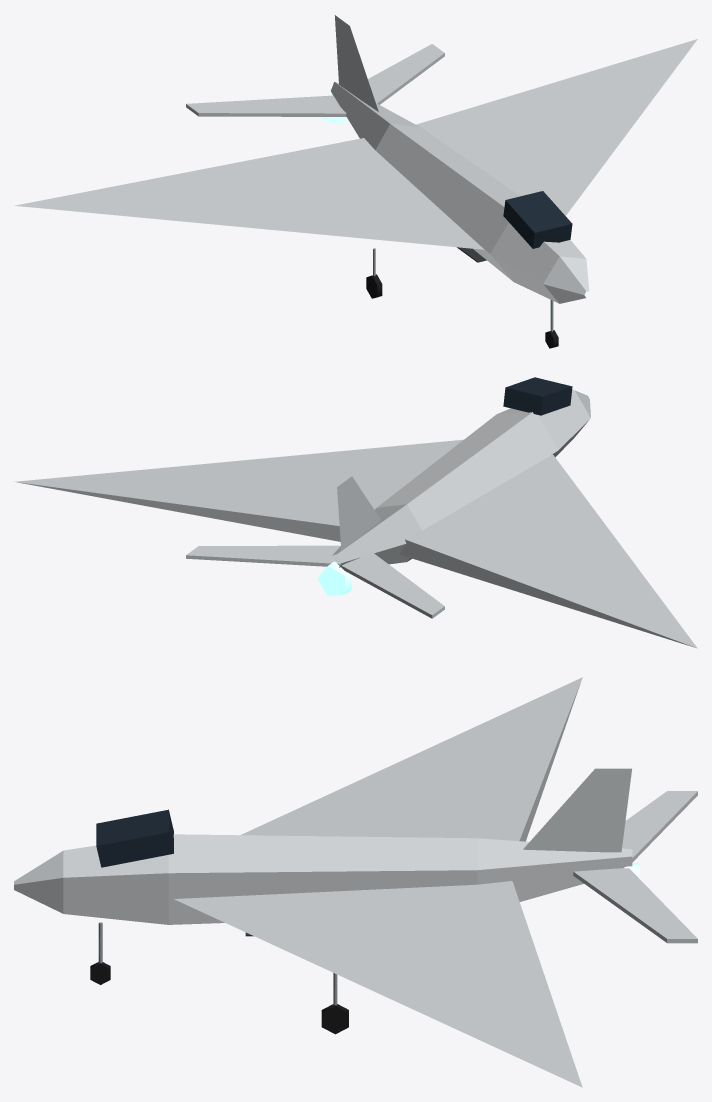
File: veh_air_bomber_a09_lod1.glb
3 renders of one model, top to bottom at view 1: azimuth 30°, elevation 25°; view 2: azimuth 150°, elevation 25°; view 3: azimuth 270°, elevation 25°, orthographic. The views are drawn at different scales.
Parts seen in each view (by area): view 1: body; view 2: body; view 3: body, gear_2.
Boxes of the visible parts, x1,y1,x2,y2 form: body: (15,15,697,303); body: (14,377,697,648); body: (14,677,697,1087); gear_2: (321,973,348,1034).
Size of the model in its own units: 24.64 by 6.04 by 17.35.
